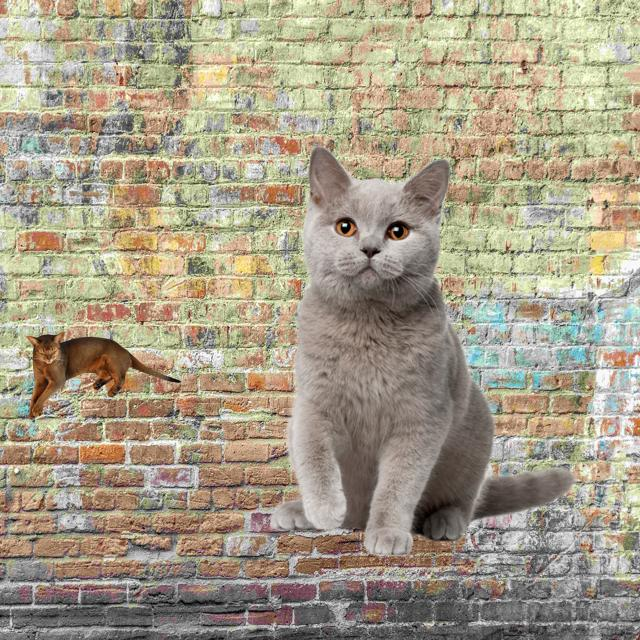cat: (213, 141, 593, 556), (28, 334, 179, 418)
